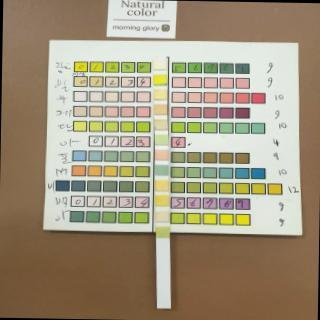mark: (154, 194, 170, 207), (154, 180, 170, 191), (155, 210, 169, 222), (155, 164, 169, 176), (155, 150, 169, 162), (155, 57, 168, 69), (154, 104, 168, 115), (156, 226, 169, 237), (155, 88, 168, 99), (155, 74, 168, 85), (156, 134, 168, 145), (156, 119, 168, 130)
